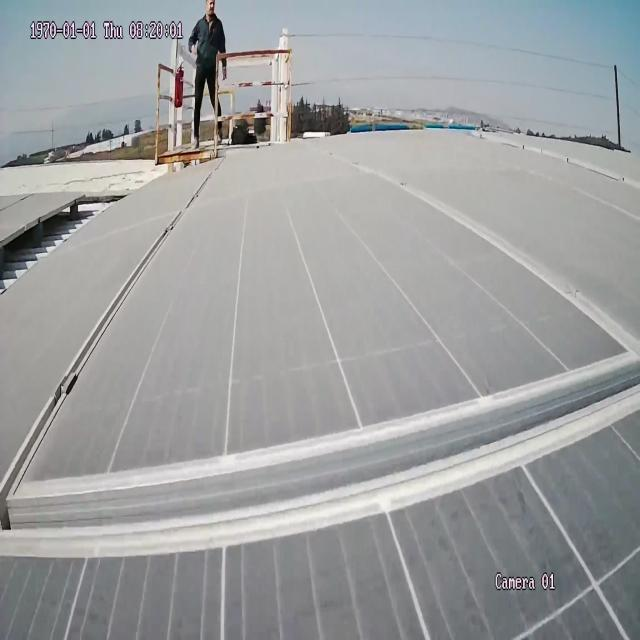interior panel: (5, 151, 640, 556)
outher panel: (0, 184, 140, 300)
